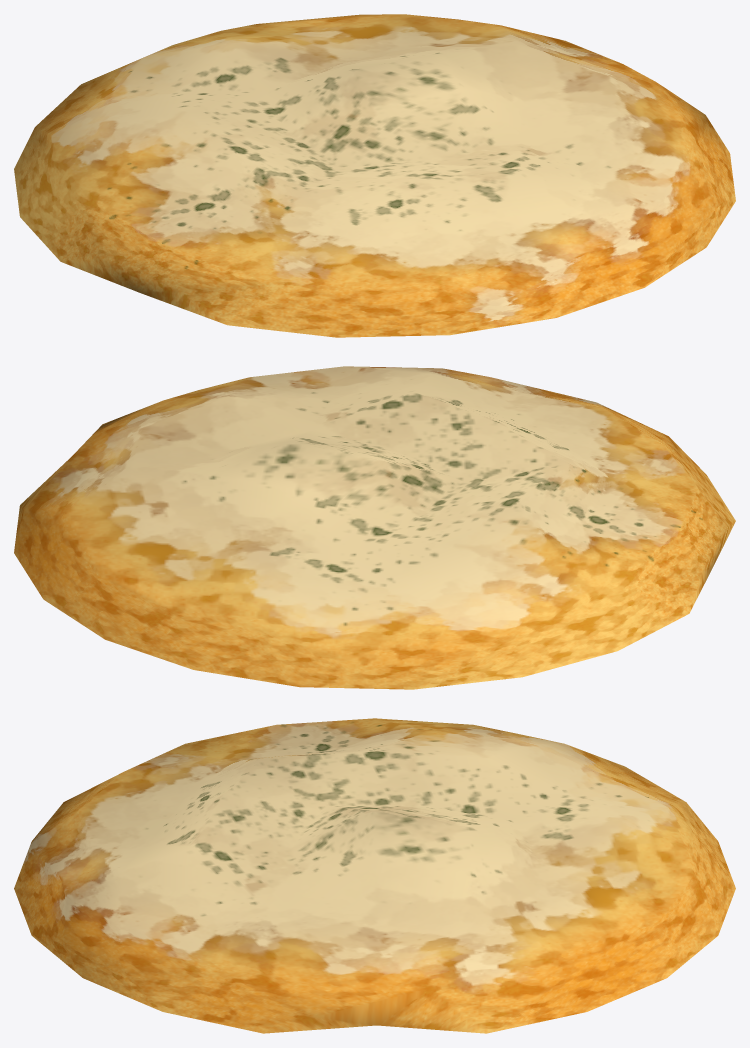
File: CornCheeze.fbx
3 views of the same model, one above another, from view 1: azimuth 30°, elevation 25°; view 2: azimuth 150°, elevation 25°; view 3: azimuth 270°, elevation 25° (orthographic).
Visible parts, largest first — view 1: CornCheeze; view 2: CornCheeze; view 3: CornCheeze.
Boxes of the visible parts, x1,y1,x2,y2 form: CornCheeze: [14, 14, 735, 337]; CornCheeze: [14, 366, 735, 689]; CornCheeze: [14, 718, 735, 1033].
Size of the model in its own units: 48.5 by 49.5 by 5.89.
Materials: 1 (1 with a texture image).
